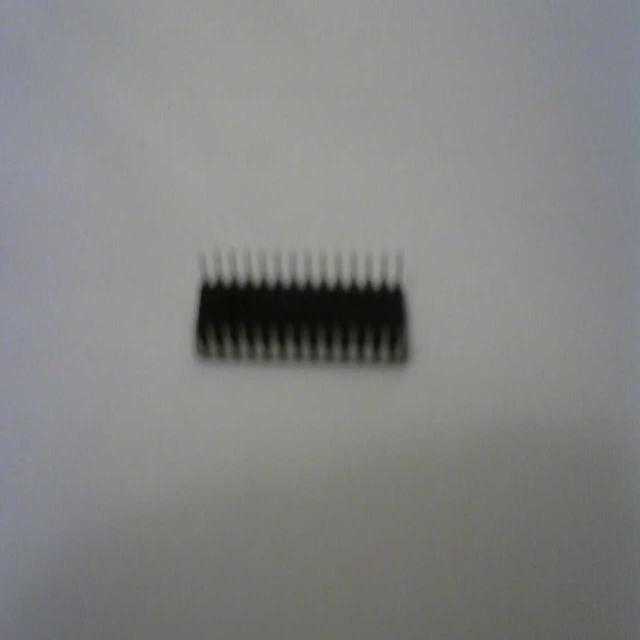atmega: (192, 239, 412, 373)
